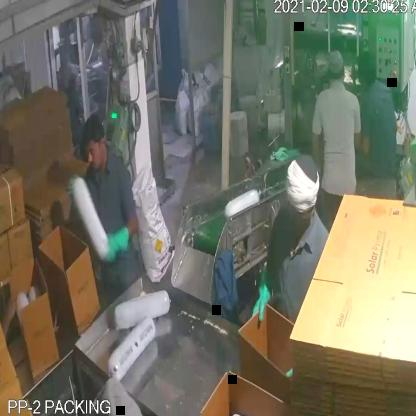glove: (249, 270, 282, 328), (100, 224, 134, 263)
